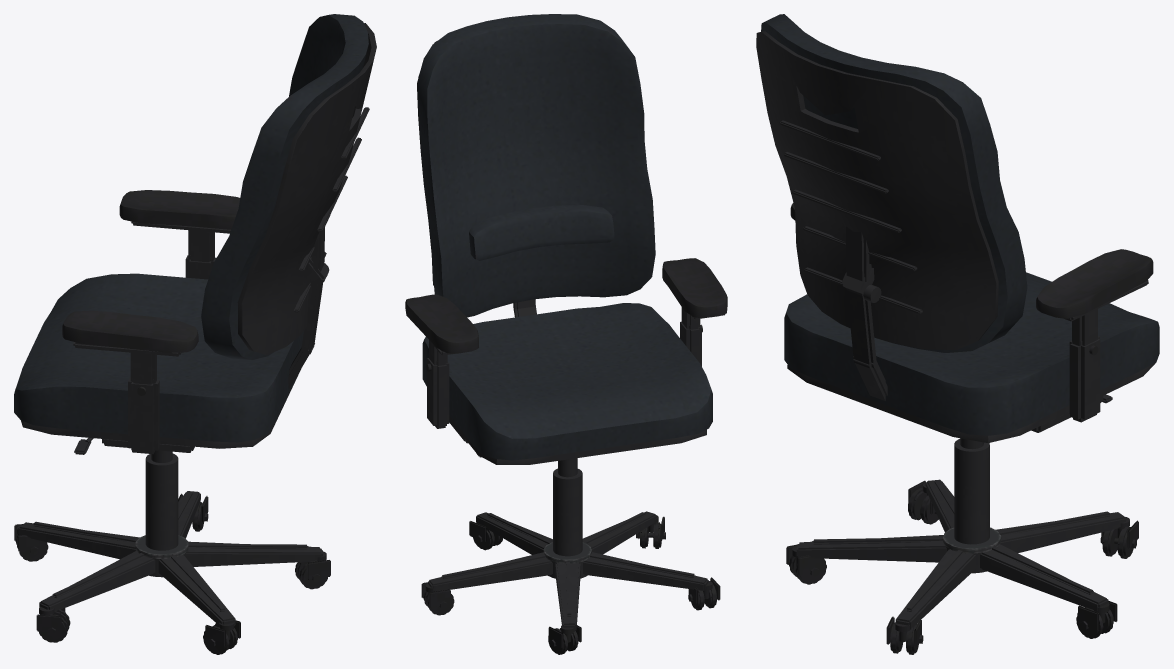
File: chair.glb
3 views of the same model, side by side, from view 1: azimuth 30°, elevation 25°; view 2: azimuth 150°, elevation 25°; view 3: azimuth 270°, elevation 25° (orthographic). The views are drawn at different scales.
Visible parts, largest first — view 1: chair__mesh; view 2: chair__mesh; view 3: chair__mesh.
Boxes of the visible parts, x1,y1,x2,y2 form: chair__mesh: [14, 14, 376, 654]; chair__mesh: [405, 14, 727, 654]; chair__mesh: [756, 14, 1159, 654].
Size of the model in its own units: 0.6874 by 1.12 by 0.6777.
1 material, 1 textured.
